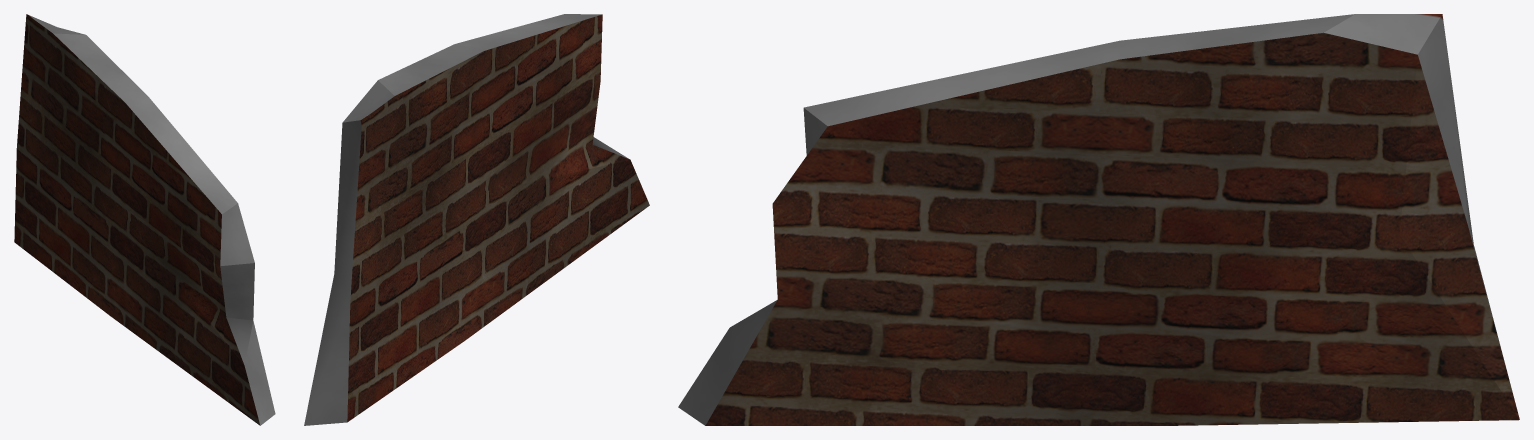
File: wall_01.fbx
The picture shows the model from 3 angles, left to right: view 1: azimuth 30°, elevation 25°; view 2: azimuth 150°, elevation 25°; view 3: azimuth 270°, elevation 25°; orthographic projection. The views are drawn at different scales.
Visible parts, largest first — view 1: wall_01; view 2: wall_01; view 3: wall_01.
Part boxes in pixels (x1,y1,x2,y2): wall_01: [14, 14, 275, 425]; wall_01: [304, 14, 649, 425]; wall_01: [678, 14, 1519, 425].
Size of the model in its own units: 17.74 by 173 by 336.
